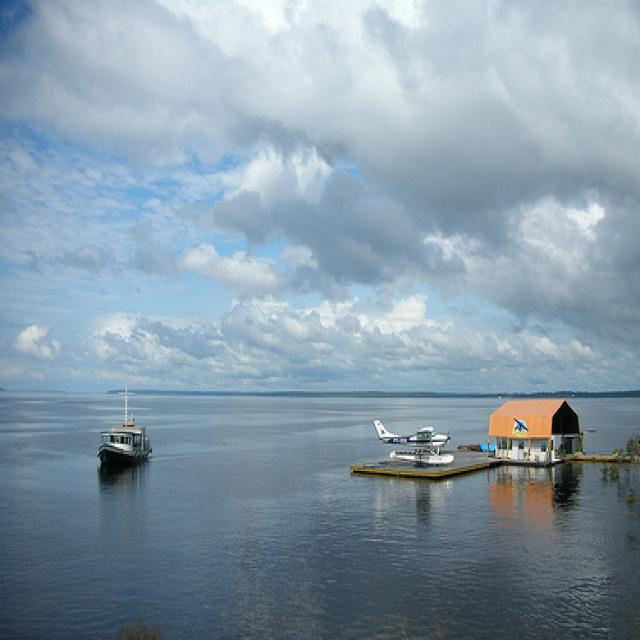aeroplane: (371, 418, 455, 466)
boat: (97, 387, 152, 475)
